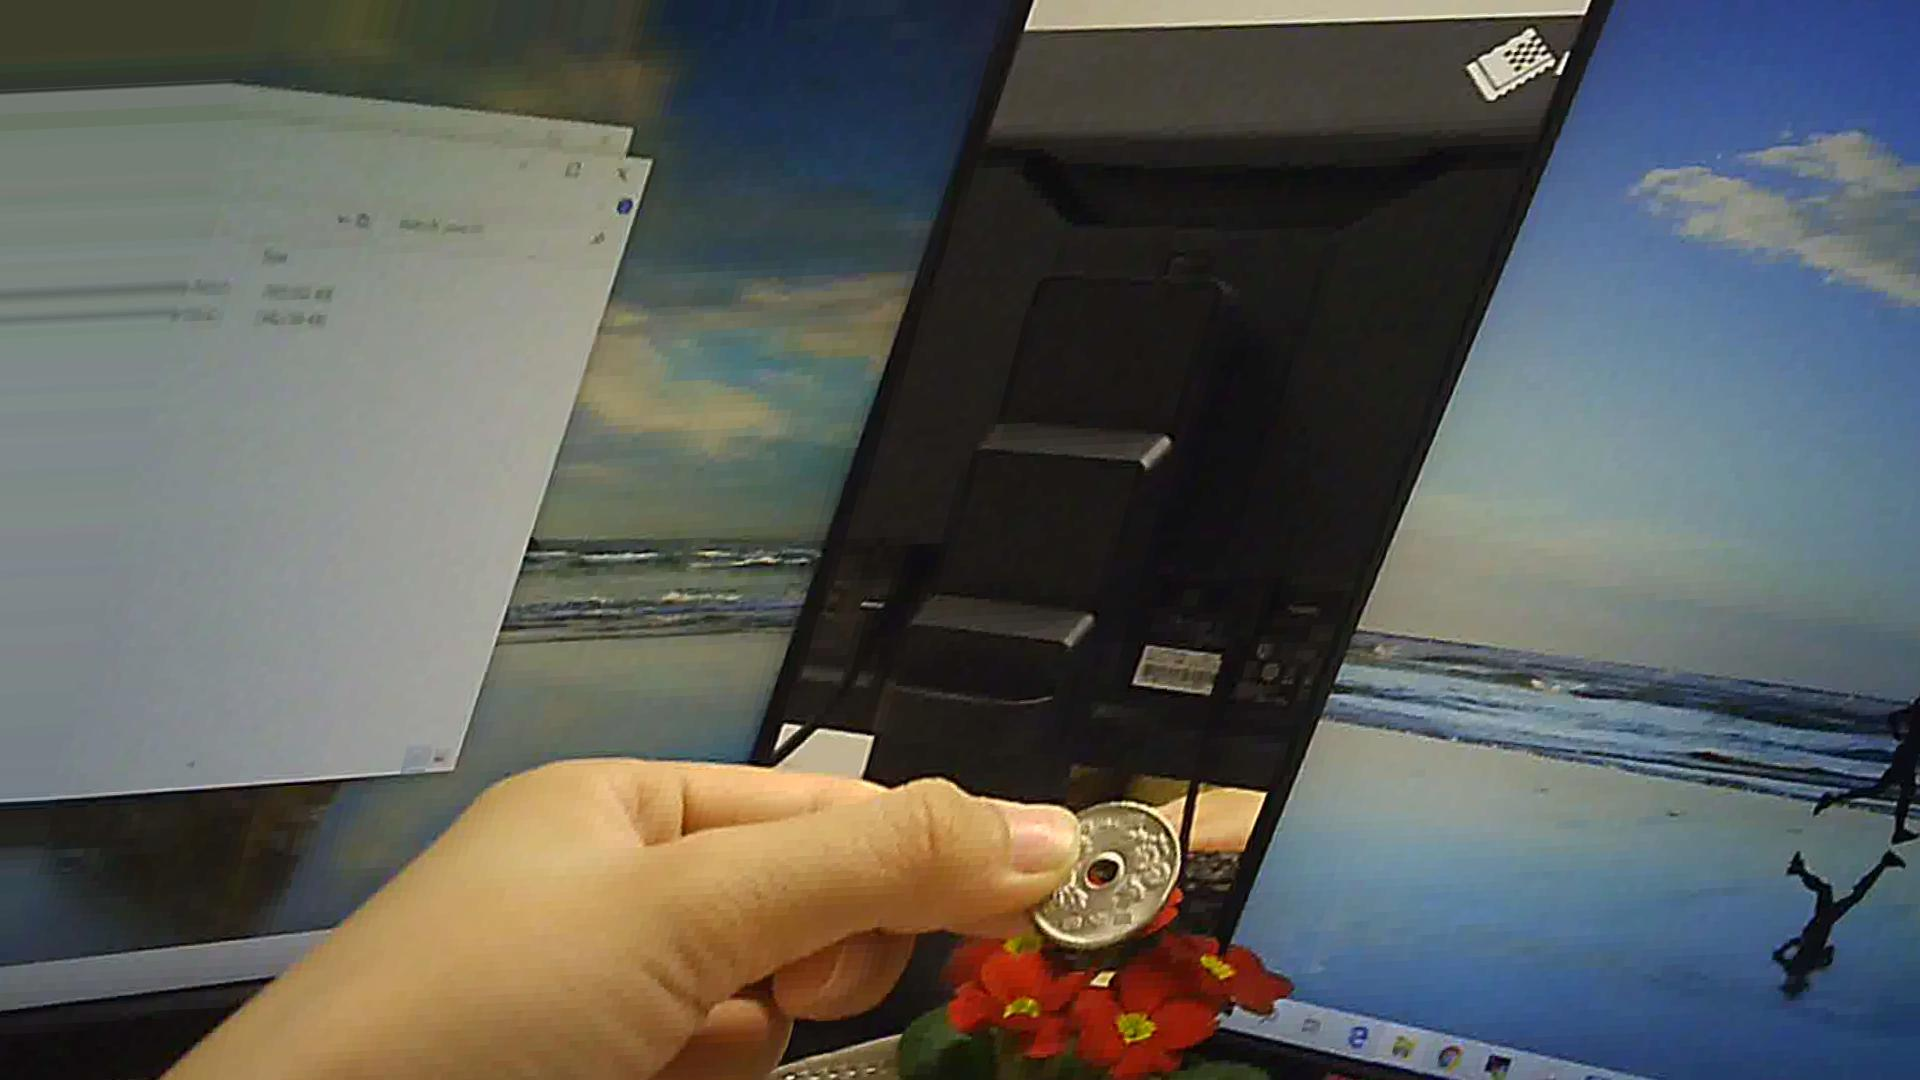50 Yen: (1001, 787, 1209, 948)
